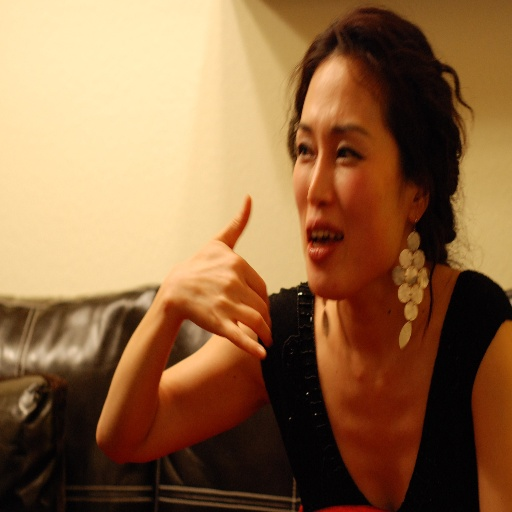hand: (160, 188, 274, 359)
